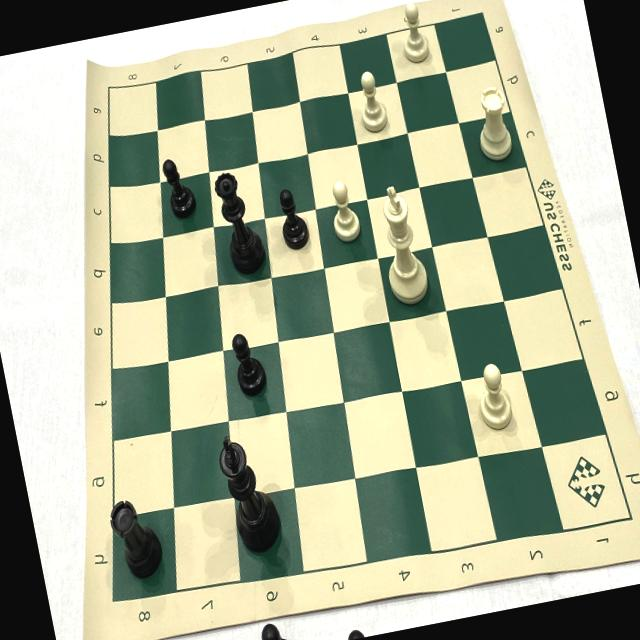black-king: (212, 422, 288, 562)
black-pawn: (224, 326, 274, 402), (268, 181, 314, 256), (158, 150, 202, 223)
black-queen: (208, 164, 274, 283)
black-rook: (104, 491, 170, 589)
white-king: (366, 177, 438, 310)
white-pawn: (469, 355, 522, 439), (348, 64, 396, 140), (322, 174, 368, 248), (390, 0, 439, 69)
white-rook: (464, 81, 522, 166)
